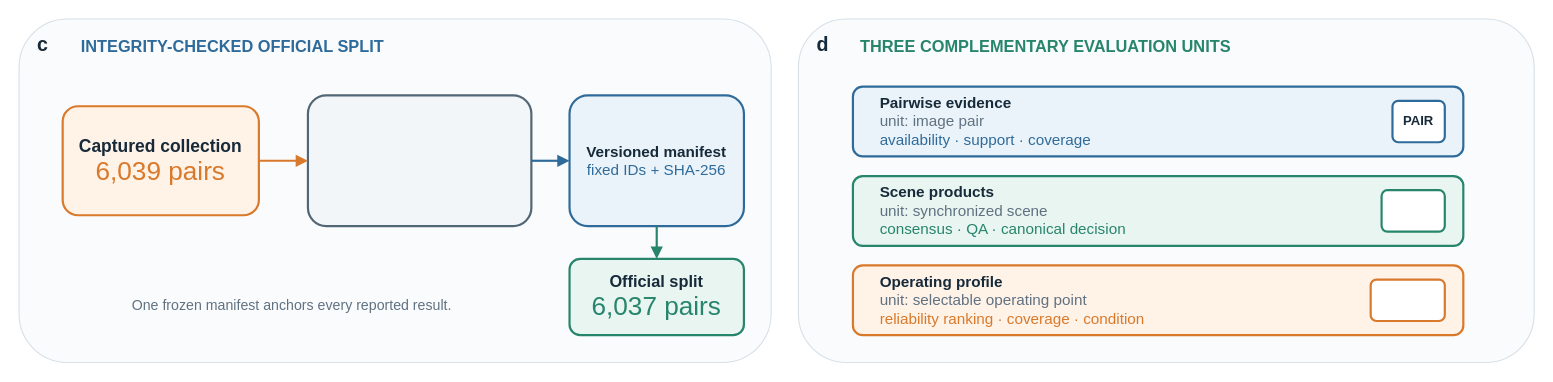
The diagram is 1553 pixels wide and 382 high, and some of its shapes have lost their labels. The centre of each missing label's shape, as x and y in pixels:
"Integrity assurance pairing · decode · content hash" goes at point (419, 160).
"PROFILE" goes at point (1407, 300).
"SCENE" goes at point (1412, 210).
